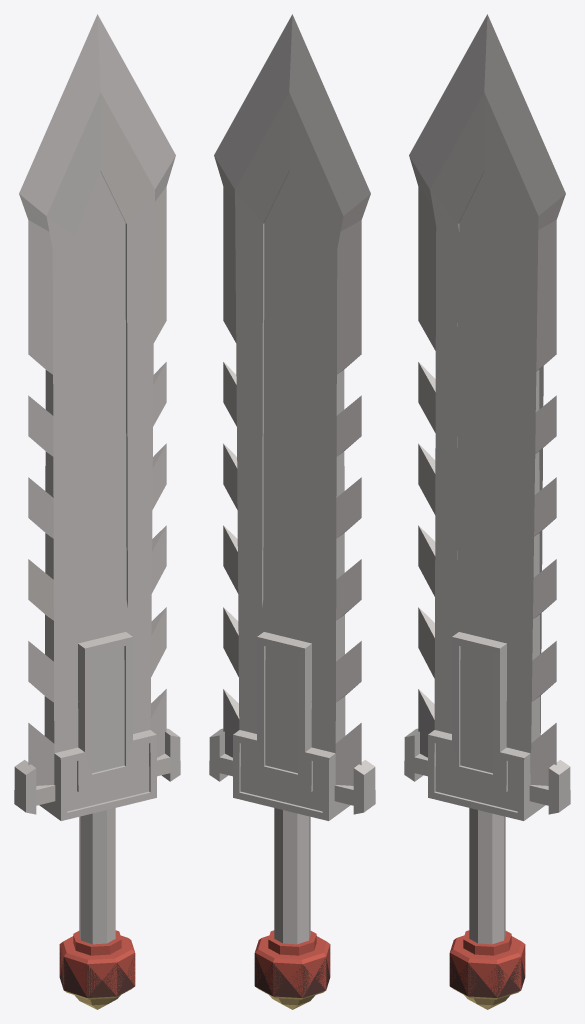
3 views of the same model, side by side, from view 1: azimuth 30°, elevation 25°; view 2: azimuth 150°, elevation 25°; view 3: azimuth 330°, elevation 25° (orthographic).
Bounding box in the file's own units: 0.165 × 1 × 0.071.
